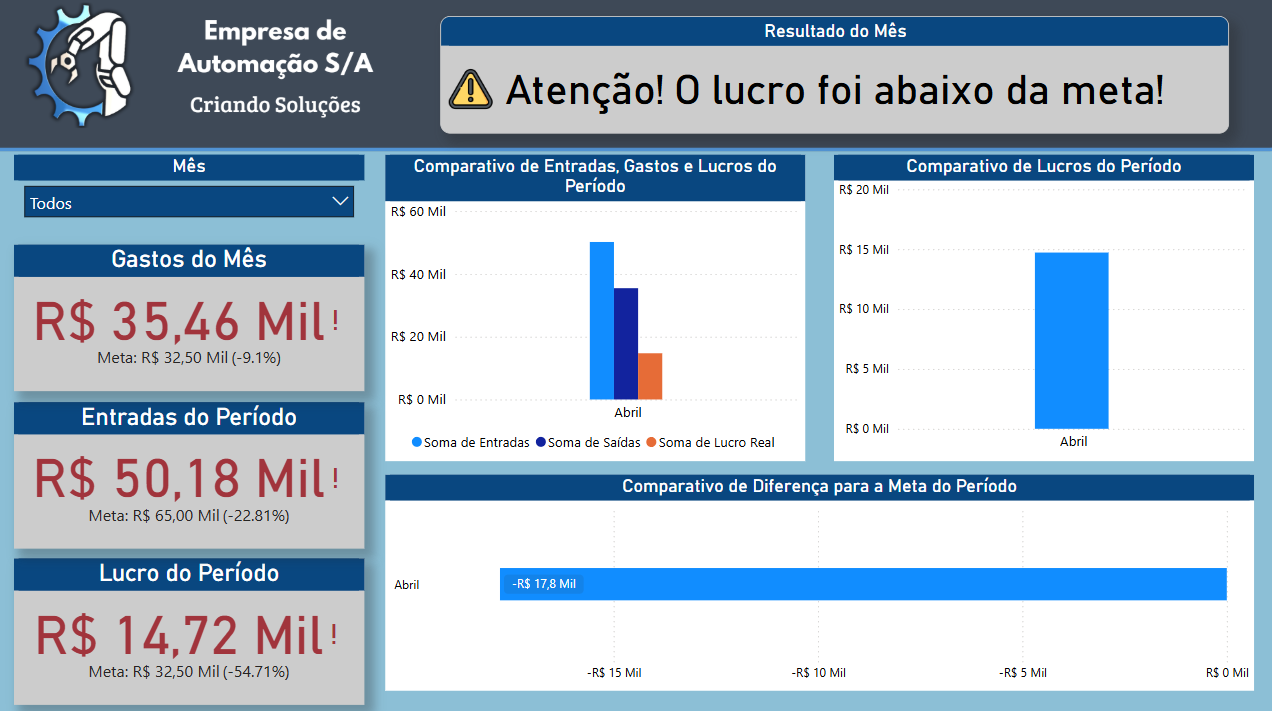

The page's visual inventory and layout, read from the dashboard file:
{"tool":"powerbi","page":{"name":"Resultados","canvas":[1280,720],"ordinal":3},"visuals":[{"type":"kpi","title":"Lucro do Período","fields":{"Indicator":["Sum(Balanceamento.Lucro Real)"],"Goal":["Sum(Balanceamento.Lucro Ideal)"],"TrendLine":["Balanceamento.Mês"]},"box":[19.7,562.5,350,146.2],"z":2000},{"type":"clusteredBarChart","title":"Comparativo de Diferença para a Meta do Período","fields":{"Category":["Balanceamento.Mês"],"Y":["Sum(Balanceamento.Variação Lucro)"]},"box":[391.2,478.8,868.8,216.2],"z":4000},{"type":"clusteredColumnChart","title":"Comparativo de Entradas, Gastos e Lucros do Período","fields":{"Category":["Balanceamento.Mês"],"Y":["Sum(Balanceamento.Entradas)","Sum(Balanceamento.Saídas)","Sum(Balanceamento.Lucro Real)"]},"box":[391.2,158.8,420,306.2],"z":5000},{"type":"kpi","title":"Entradas do Período","fields":{"Indicator":["Sum(Balanceamento.Entradas)"],"Goal":["Sum(Balanceamento.Meta)"],"TrendLine":["Balanceamento.Mês"]},"box":[19.7,405.8,350,146.2],"z":6000},{"type":"lineClusteredColumnComboChart","title":"Comparativo de Lucros do Período","fields":{"Category":["Balanceamento.Mês"],"Y":["Sum(Balanceamento.Lucro Real)"]},"box":[840,158.8,420,306.2],"z":7000},{"type":"slicer","title":"Mês","fields":{"Values":["Balanceamento.Mês"]},"box":[19.7,158.8,350,80],"z":11000},{"type":"kpi","title":"Gastos do Mês","fields":{"Indicator":["Sum(Balanceamento.Saídas)"],"Goal":["Sum(Balanceamento.Média de Saídas)"],"TrendLine":["Balanceamento.Mês"]},"box":[19.7,249.2,350,146.2],"z":11001},{"type":"card","title":"Resultado do Mês","fields":{"Values":["Min(Balanceamento.Resultado)"]},"box":[446.2,20,788.8,117.5],"z":11002},{"type":"image","box":[447.5,66.2,58.8,53.8],"z":11003}]}

Visuals, with their boxes in screenshot pixels (x1, y1, x2, y2), scaled from the page's 1280x720 canvas onto the 1272x711 screenshot:
"Lucro do Período" kpi: 20 555 367 700
"Comparativo de Diferença para a Meta do Período" clusteredBarChart: 389 473 1252 686
"Comparativo de Entradas, Gastos e Lucros do Período" clusteredColumnChart: 389 157 806 459
"Entradas do Período" kpi: 20 401 367 545
"Comparativo de Lucros do Período" lineClusteredColumnComboChart: 835 157 1252 459
"Mês" slicer: 20 157 367 236
"Gastos do Mês" kpi: 20 246 367 390
"Resultado do Mês" card: 443 20 1227 136
image: 445 65 503 118
